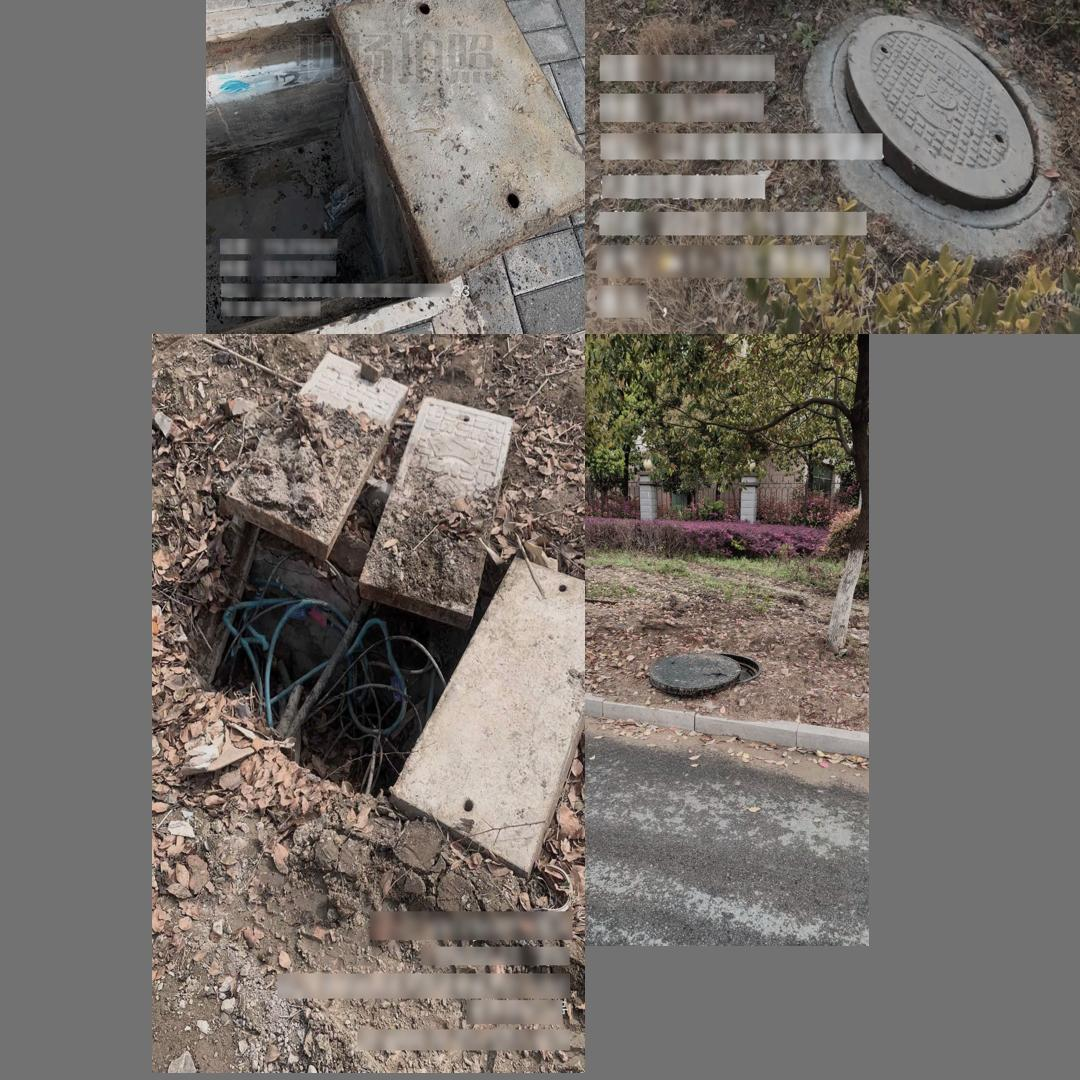uncovered: (174, 354, 575, 878), (208, 0, 585, 323), (826, 8, 1054, 232), (644, 635, 768, 698)
